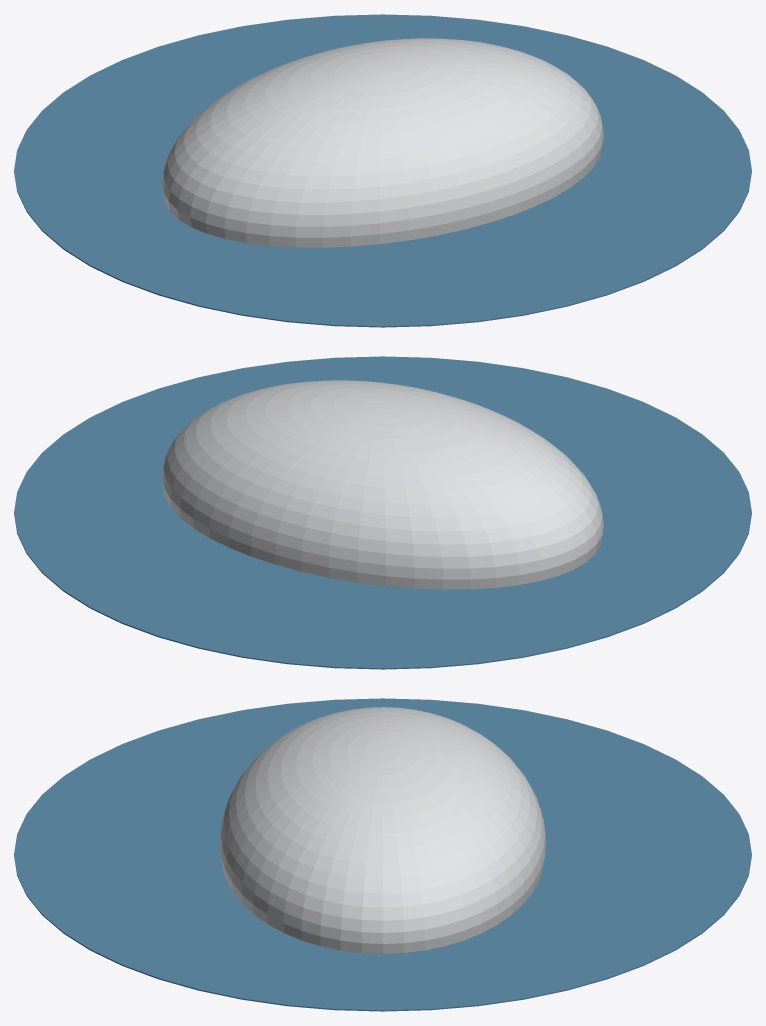
Rendered from ncpa.glb.
The picture shows the model from 3 angles, top to bottom: view 1: azimuth 30°, elevation 25°; view 2: azimuth 150°, elevation 25°; view 3: azimuth 270°, elevation 25°; orthographic projection.
Parts seen in each view (by area): view 1: ncpa; view 2: ncpa; view 3: ncpa.
Part boxes in pixels (x1,y1,x2,y2): ncpa: (14,14,751,327); ncpa: (14,356,751,669); ncpa: (14,698,751,1011).
Size of the model in its own units: 330 by 92 by 330.
